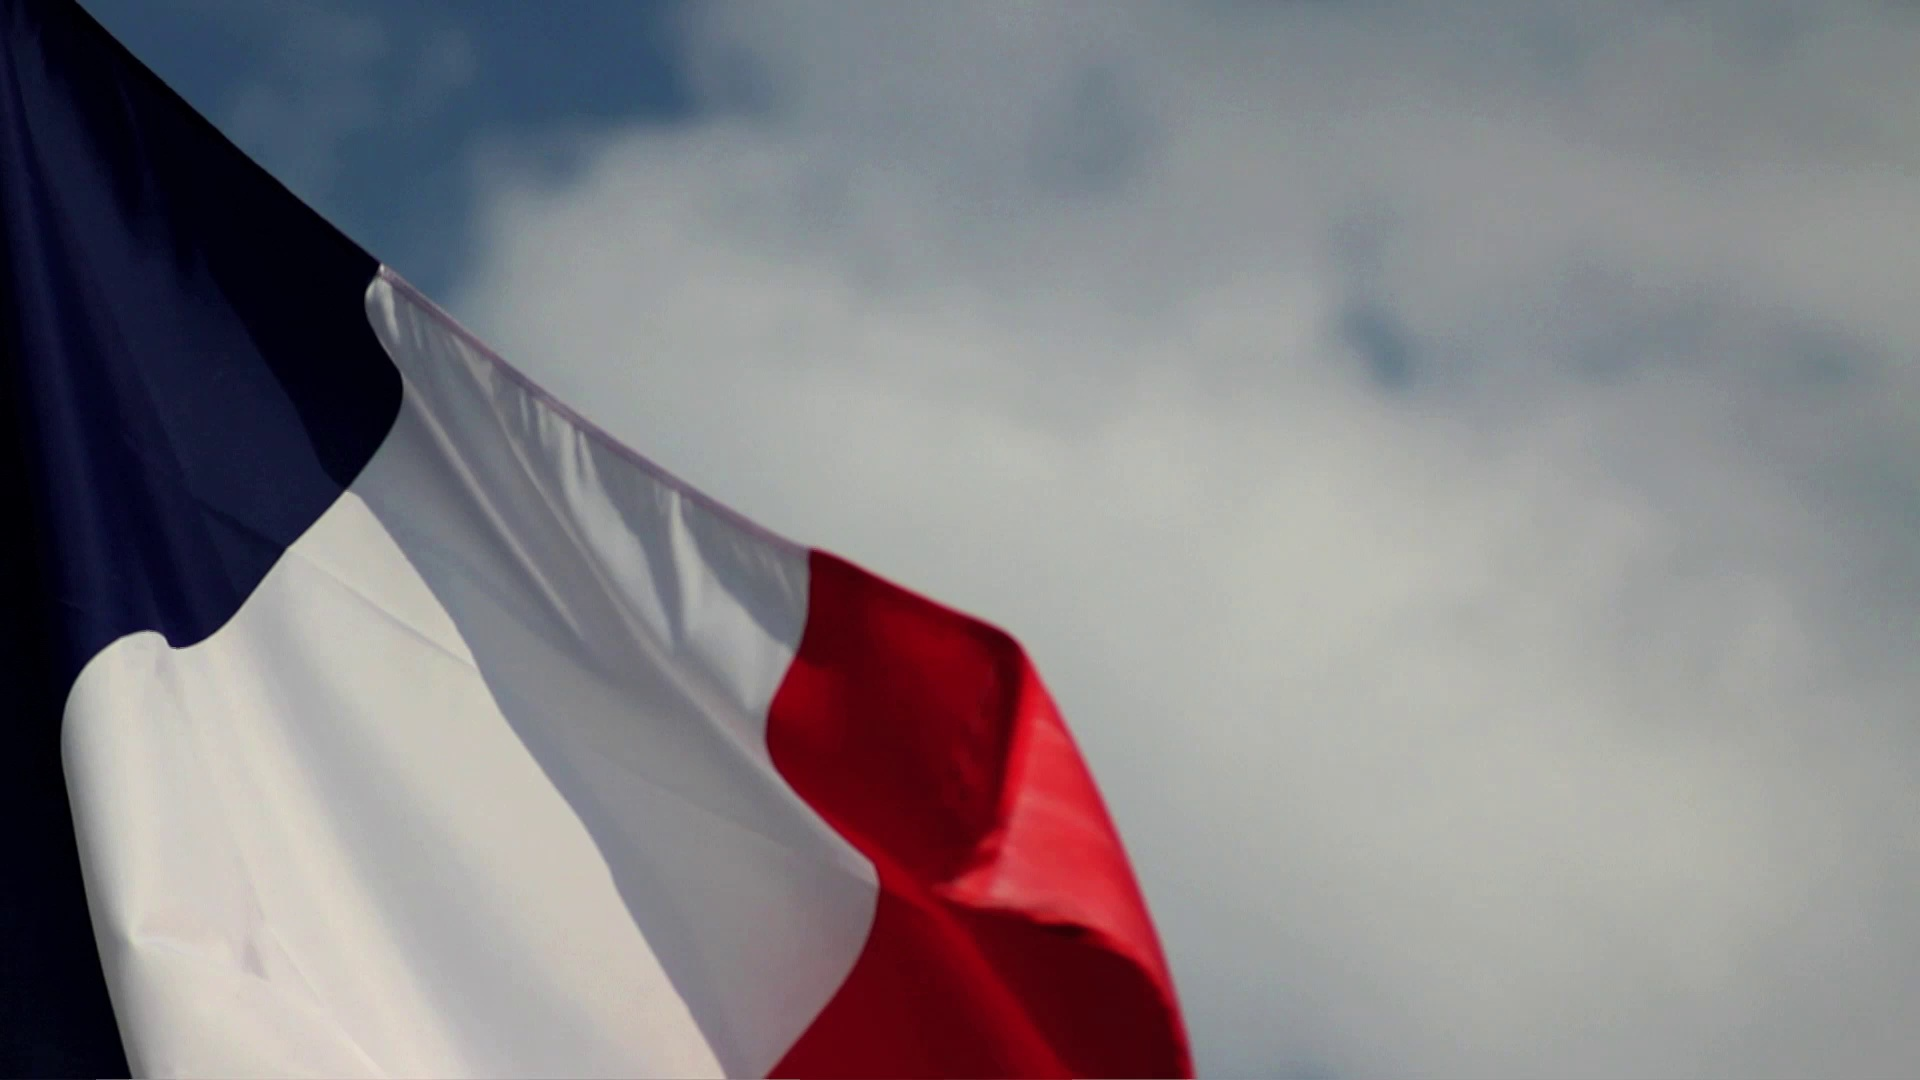French Flag: (3, 1, 1193, 1080)
